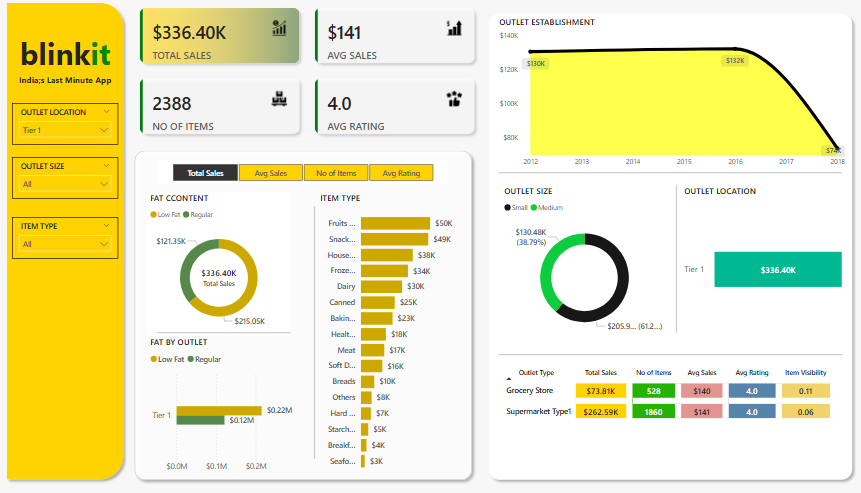

This screenshot's page, from the dashboard's own definition file:
{"tool":"powerbi","page":{"name":"Page 1","canvas":[1400,800],"ordinal":0},"visuals":[{"type":"shape","box":[17.3,0,204.7,781.1],"z":0},{"type":"textbox","box":[35,51.7,170,83.3],"z":1000},{"type":"textbox","box":[35,118.3,170,33.3],"z":2000},{"type":"cardVisual","fields":{"Data":["BlinkIT Grocery Data.Total Sales","BlinkIT Grocery Data.Avg Sales","BlinkIT Grocery Data.No of Items","BlinkIT Grocery Data.Avg Rating"]},"box":[222,0,570.1,236.2],"z":3000},{"type":"shape","box":[222,236.2,557.5,544.9],"z":4000},{"type":"donutChart","title":"FAT CCONTENT","fields":{"Y":["BlinkIT Grocery Data.Total Sales"],"Category":["BlinkIT Grocery Data.Item Fat Content"]},"box":[252,311.8,229.9,229.9],"z":5000},{"type":"slicer","fields":{"Values":["Metrics.Metrics"]},"box":[267.7,261.4,466.1,39.4],"z":6000},{"type":"cardVisual","fields":{"Data":["BlinkIT Grocery Data.Total Sales"]},"box":[315.2,416,102.4,57.6],"z":7000},{"type":"clusteredBarChart","title":"FAT BY OUTLET","fields":{"Y":["BlinkIT Grocery Data.Total Sales"],"Category":["BlinkIT Grocery Data.Outlet Location Type"],"Series":["BlinkIT Grocery Data.Item Fat Content"]},"box":[252,541.7,255.1,226.8],"z":8000},{"type":"clusteredBarChart","title":"ITEM TYPE","fields":{"Y":["BlinkIT Grocery Data.Total Sales"],"Category":["BlinkIT Grocery Data.Item Type"]},"box":[523.2,312,228.8,456],"z":9000},{"type":"shape","box":[789,17.3,600,763.8],"z":10000},{"type":"lineChart","title":"OUTLET ESTABLISHMENT","fields":{"Y":["BlinkIT Grocery Data.Total Sales"],"Category":["BlinkIT Grocery Data.Outlet Establishment Year"]},"box":[809.6,30.4,563.2,251.2],"z":11000},{"type":"donutChart","title":"OUTLET SIZE","fields":{"Y":["BlinkIT Grocery Data.Total Sales"],"Category":["BlinkIT Grocery Data.Outlet Size"]},"box":[817.6,300.8,267.2,252.8],"z":12000},{"type":"funnel","title":"OUTLET LOCATION","fields":{"Y":["BlinkIT Grocery Data.Total Sales"],"Category":["BlinkIT Grocery Data.Outlet Location Type"]},"box":[1105.6,300.8,267.2,252.8],"z":13000},{"type":"pivotTable","fields":{"Rows":["BlinkIT Grocery Data.Outlet Type"],"Values":["BlinkIT Grocery Data.Total Sales","BlinkIT Grocery Data.No of Items","BlinkIT Grocery Data.Avg Sales","BlinkIT Grocery Data.Avg Rating","BlinkIT Grocery Data.Item  Visibility"]},"box":[816,584,545.6,184],"z":14000},{"type":"shape","box":[267.2,508.8,214.4,56],"z":15000},{"type":"shape","box":[481.6,334.4,75.2,404.8],"z":16000},{"type":"shape","box":[824,256,548.8,56],"z":17000},{"type":"shape","box":[814.4,564.8,548.8,14.4],"z":18000},{"type":"shape","box":[1080,300.8,36.8,236.8],"z":19000},{"type":"slicer","fields":{"Values":["BlinkIT Grocery Data.Outlet Location Type"]},"box":[35.2,169.6,169.6,67.2],"z":20000},{"type":"slicer","fields":{"Values":["BlinkIT Grocery Data.Outlet Size"]},"box":[35.2,256,169.6,67.2],"z":21000},{"type":"slicer","fields":{"Values":["BlinkIT Grocery Data.Item Type"]},"box":[35.2,352,169.6,67.2],"z":22000}]}

Visuals, with their boxes in screenshot pixels (x1, y1, x2, y2), scaled from the page's 1400x800 canvas onto the 861x493 screenshot:
shape: BBox(11, 0, 137, 481)
textbox: BBox(22, 32, 126, 83)
textbox: BBox(22, 73, 126, 93)
cardVisual - BlinkIT Grocery Data.Total Sales x BlinkIT Grocery Data.Avg Sales: BBox(137, 0, 487, 146)
shape: BBox(137, 146, 479, 481)
"FAT CCONTENT" donutChart: BBox(155, 192, 296, 334)
slicer - Metrics.Metrics: BBox(165, 161, 451, 185)
cardVisual - BlinkIT Grocery Data.Total Sales: BBox(194, 256, 257, 292)
"FAT BY OUTLET" clusteredBarChart: BBox(155, 334, 312, 474)
"ITEM TYPE" clusteredBarChart: BBox(322, 192, 462, 473)
shape: BBox(485, 11, 854, 481)
"OUTLET ESTABLISHMENT" lineChart: BBox(498, 19, 844, 174)
"OUTLET SIZE" donutChart: BBox(503, 185, 667, 341)
"OUTLET LOCATION" funnel: BBox(680, 185, 844, 341)
pivotTable - BlinkIT Grocery Data.Outlet Type x BlinkIT Grocery Data.Total Sales: BBox(502, 360, 837, 473)
shape: BBox(164, 314, 296, 348)
shape: BBox(296, 206, 342, 456)
shape: BBox(507, 158, 844, 192)
shape: BBox(501, 348, 838, 357)
shape: BBox(664, 185, 687, 331)
slicer - BlinkIT Grocery Data.Outlet Location Type: BBox(22, 105, 126, 146)
slicer - BlinkIT Grocery Data.Outlet Size: BBox(22, 158, 126, 199)
slicer - BlinkIT Grocery Data.Item Type: BBox(22, 217, 126, 258)
